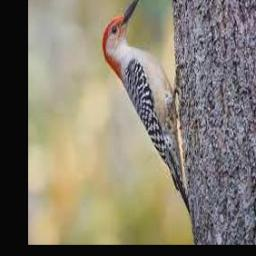Woodpecker: (102, 0, 192, 216)
